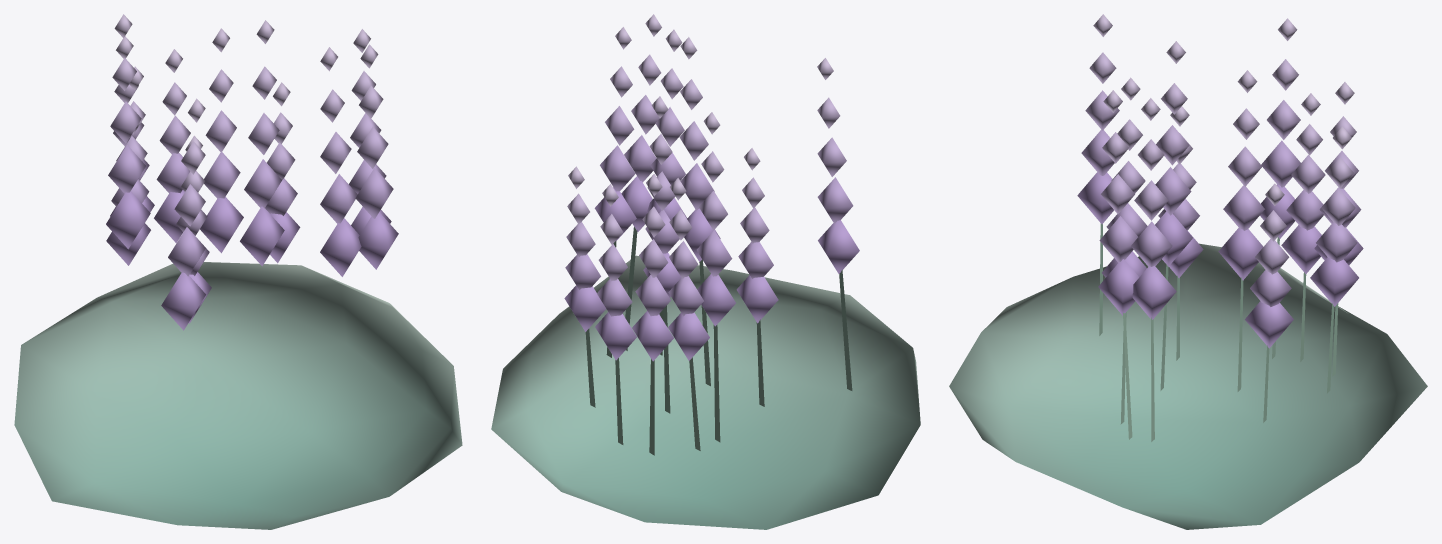
File: lavender_mound.glb
3 views of the same model, side by side, from view 1: azimuth 30°, elevation 25°; view 2: azimuth 150°, elevation 25°; view 3: azimuth 270°, elevation 25° (orthographic). The views are drawn at different scales.
Parts seen in each view (by area): view 1: near; view 2: near; view 3: near.
Boxes of the visible parts, box(x1,y1,x2,y2) form: near: box(14, 14, 462, 529); near: box(491, 14, 920, 529); near: box(949, 14, 1427, 529).
Size of the model in its own units: 0.7466 by 0.922 by 0.8715.
